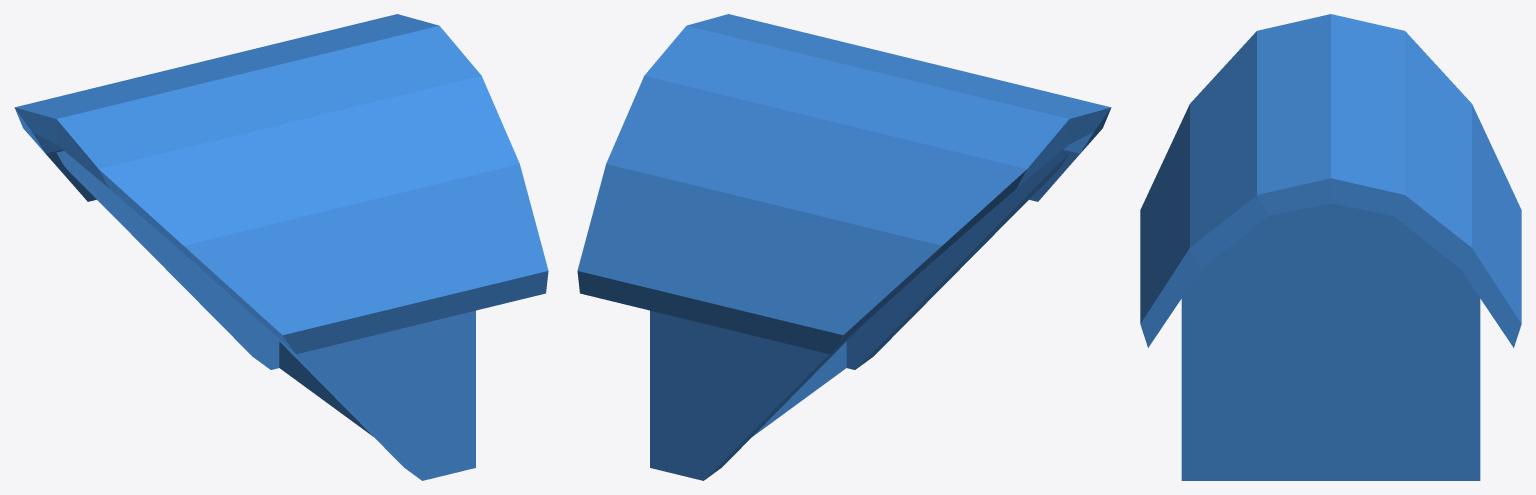
The model's file is Collision_Roof_Dormer_FlatTile.fbx.
3 views of the same model, side by side, from view 1: azimuth 30°, elevation 25°; view 2: azimuth 150°, elevation 25°; view 3: azimuth 270°, elevation 25° (orthographic). The views are drawn at different scales.
Visible parts, largest first — view 1: UCX_Roof_Dormer_FlatTile_02; view 2: UCX_Roof_Dormer_FlatTile_02; view 3: UCX_Roof_Dormer_FlatTile_02.
Boxes of the visible parts, box(x1,y1,x2,y2) form: UCX_Roof_Dormer_FlatTile_02: box(14, 14, 548, 480); UCX_Roof_Dormer_FlatTile_02: box(577, 14, 1111, 480); UCX_Roof_Dormer_FlatTile_02: box(1140, 14, 1521, 480).
Bounding box in the file's own units: 213 × 195 × 208.
